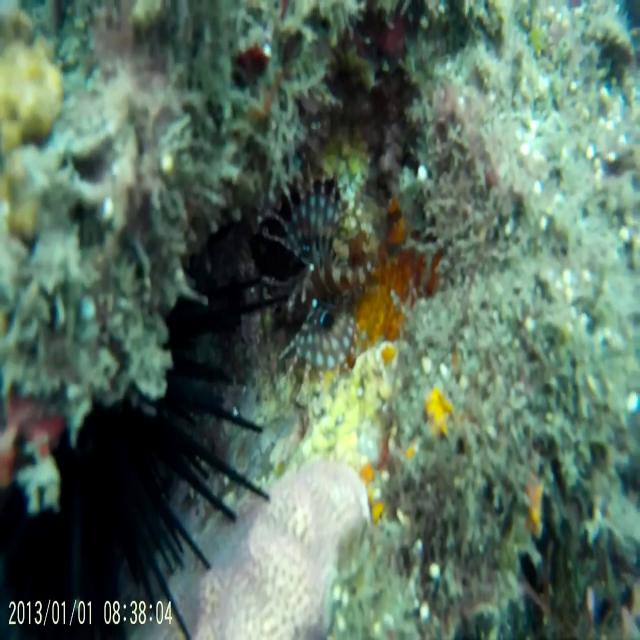Aslan Baligi: (239, 139, 383, 390)
